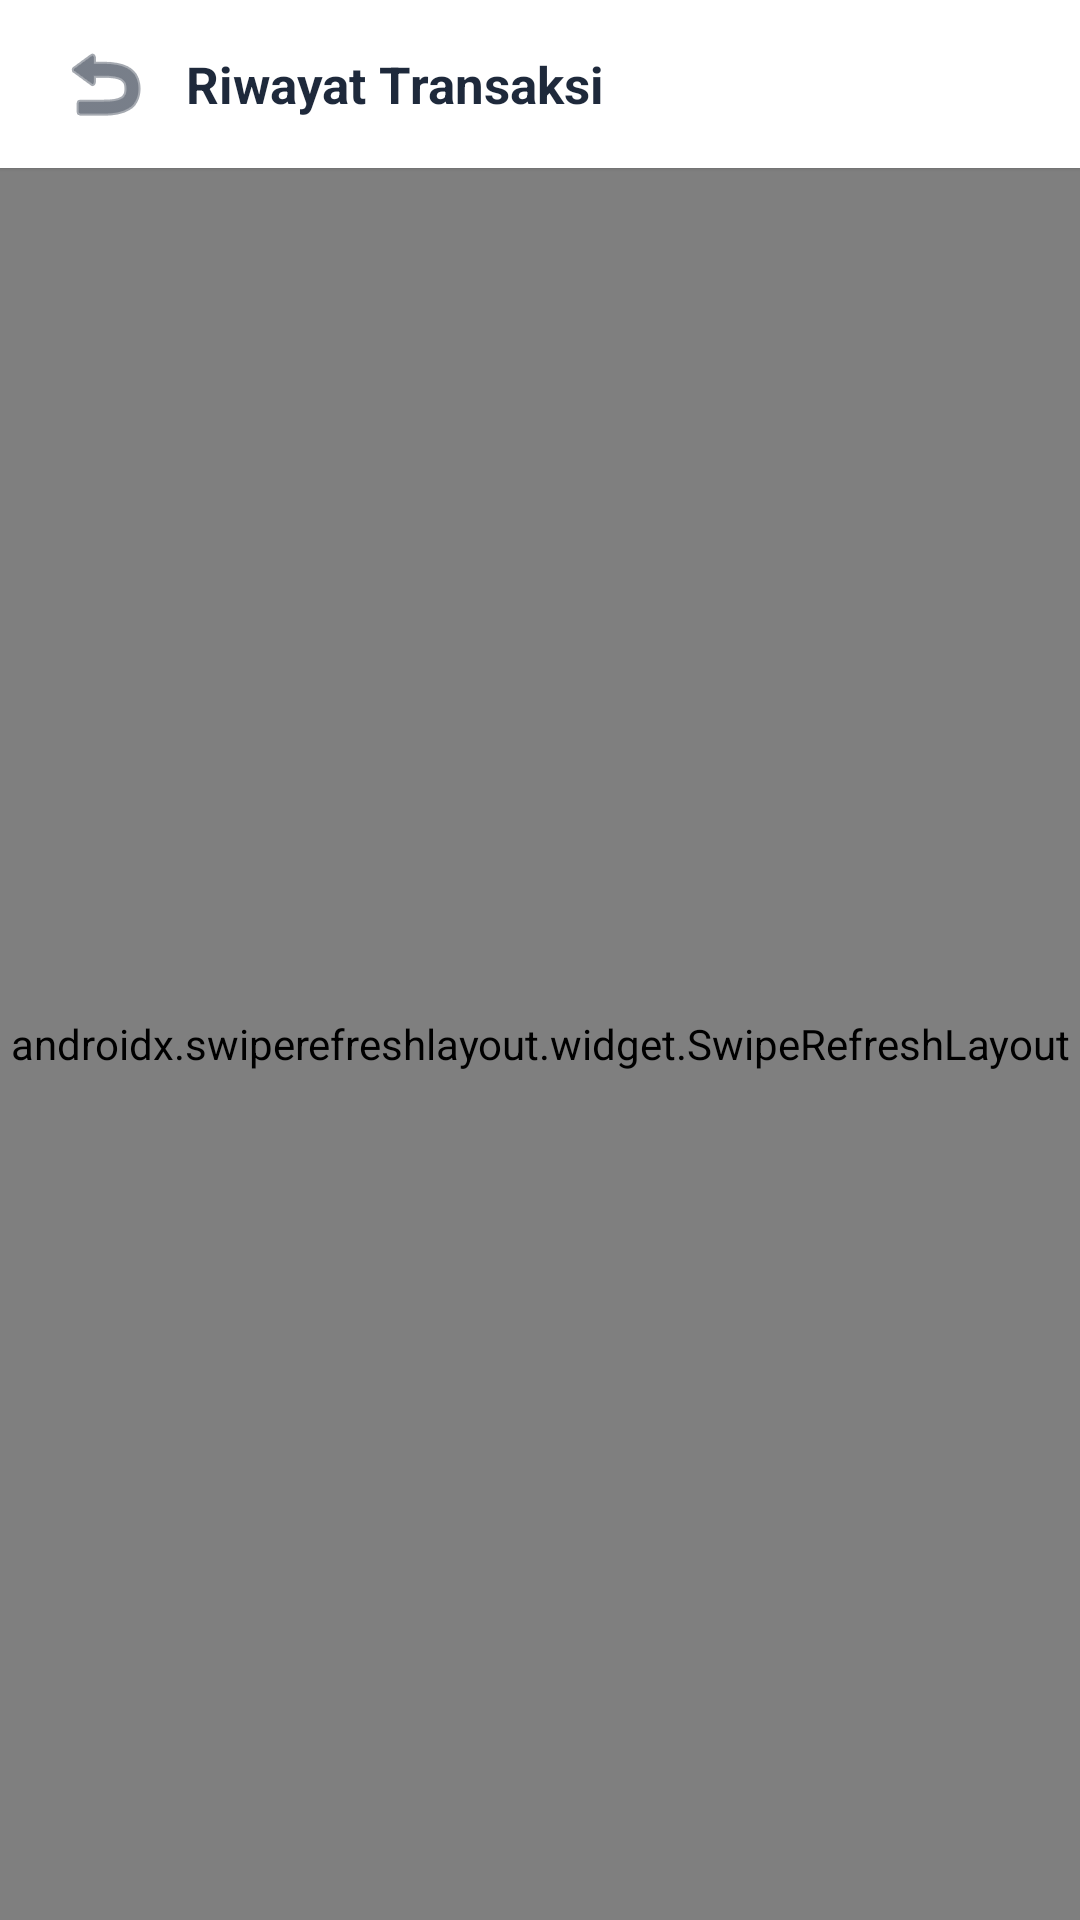

Point at icon controls on the screen. Image size 1080 x 1920, points as [x,y].
Kembali: [106,84]
